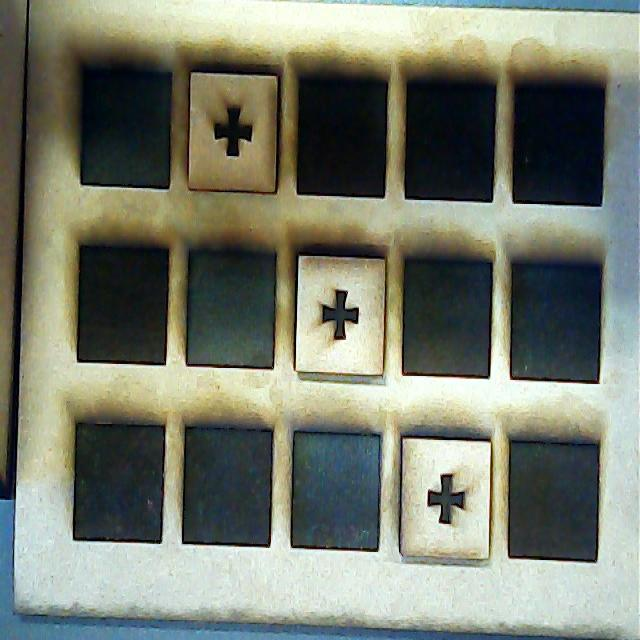temple: (189, 71, 281, 191), (299, 254, 388, 378), (403, 434, 491, 559)
